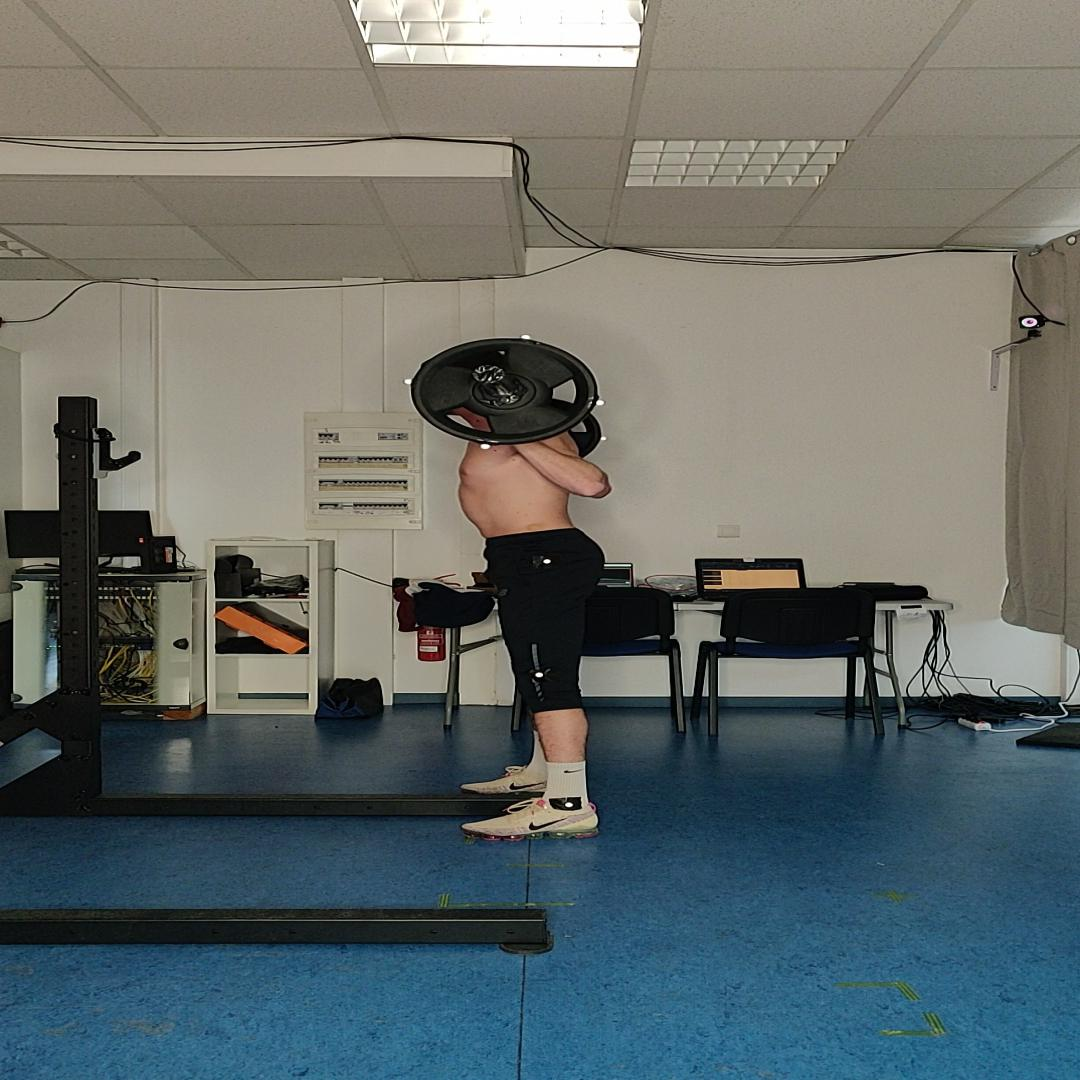Bar: (473, 364, 505, 384)
Barbell: (411, 338, 598, 445)
